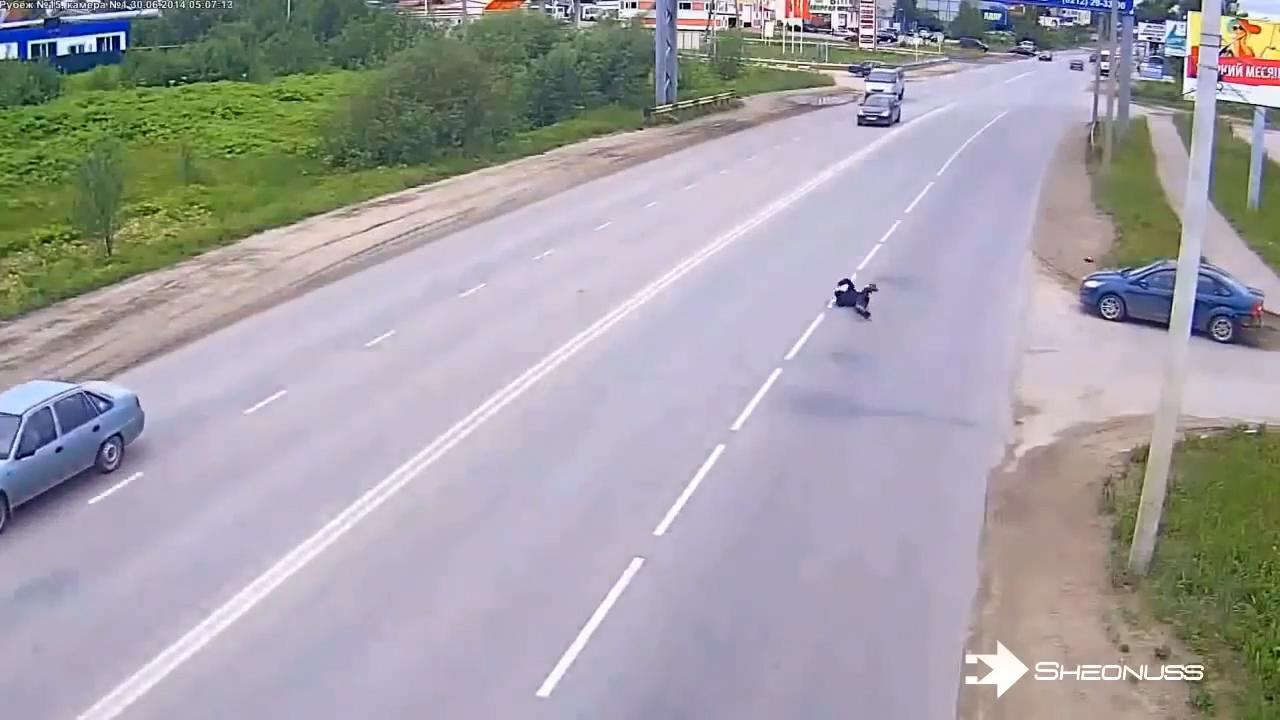accident: (827, 277, 882, 321)
